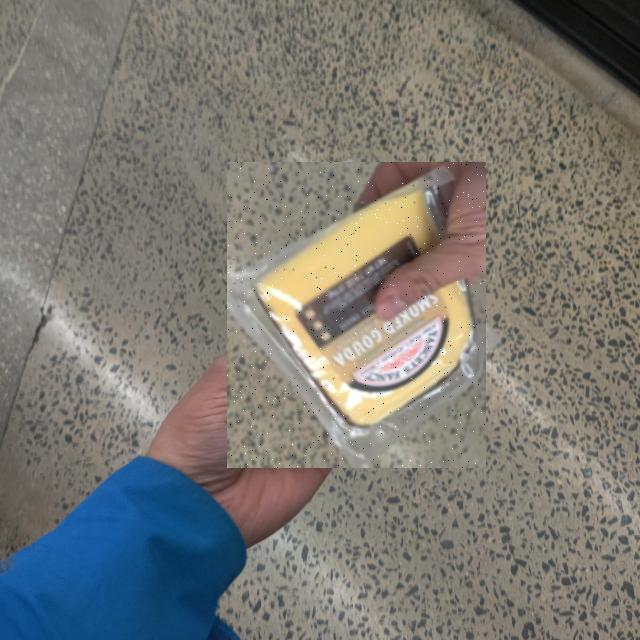cheese: (0, 234, 470, 640)
